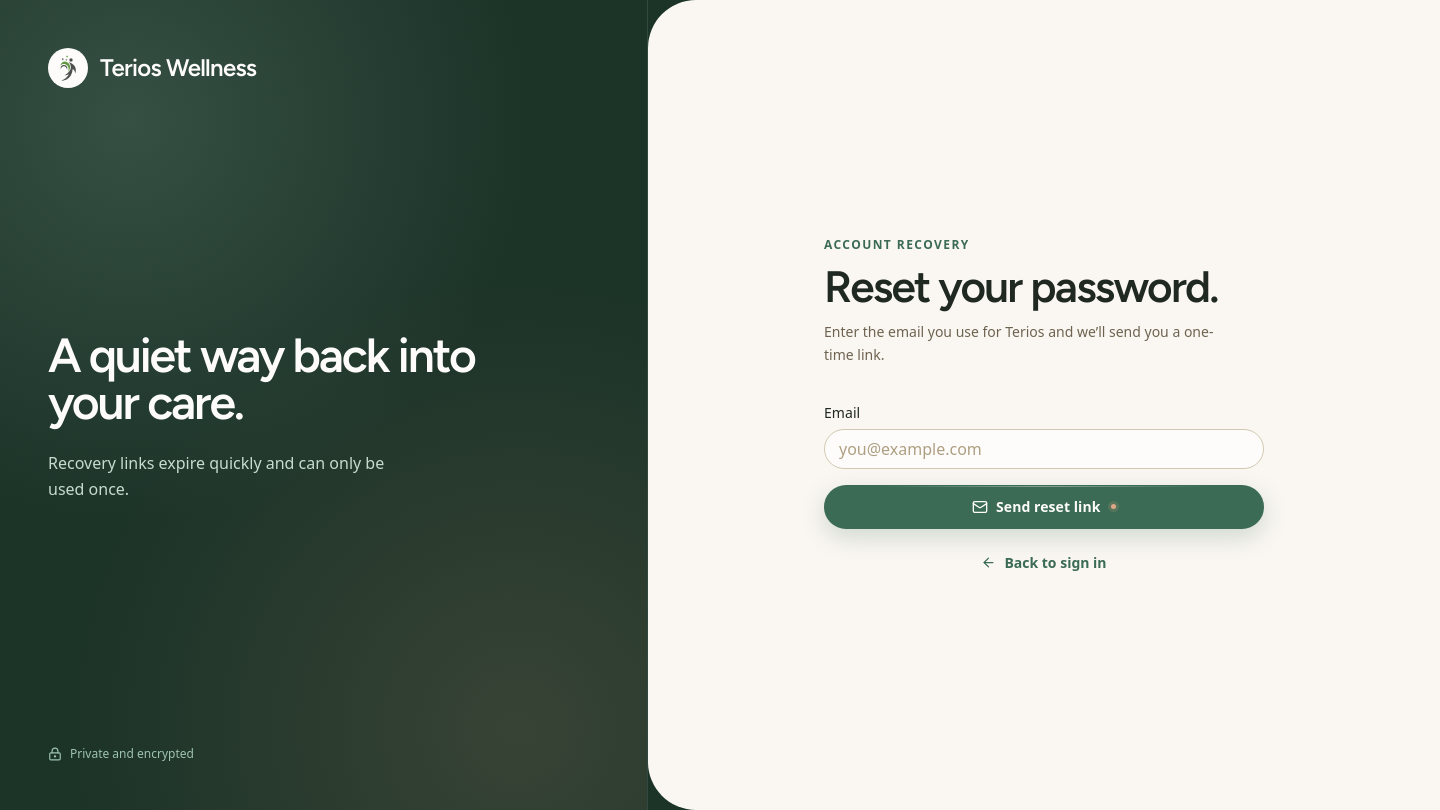
Test case: client password recovery request › sends the request and confirms without revealing whether the account exists
In the field labelled "Email": (1044, 449) [824,429,1264,469], type "ama@example.com"
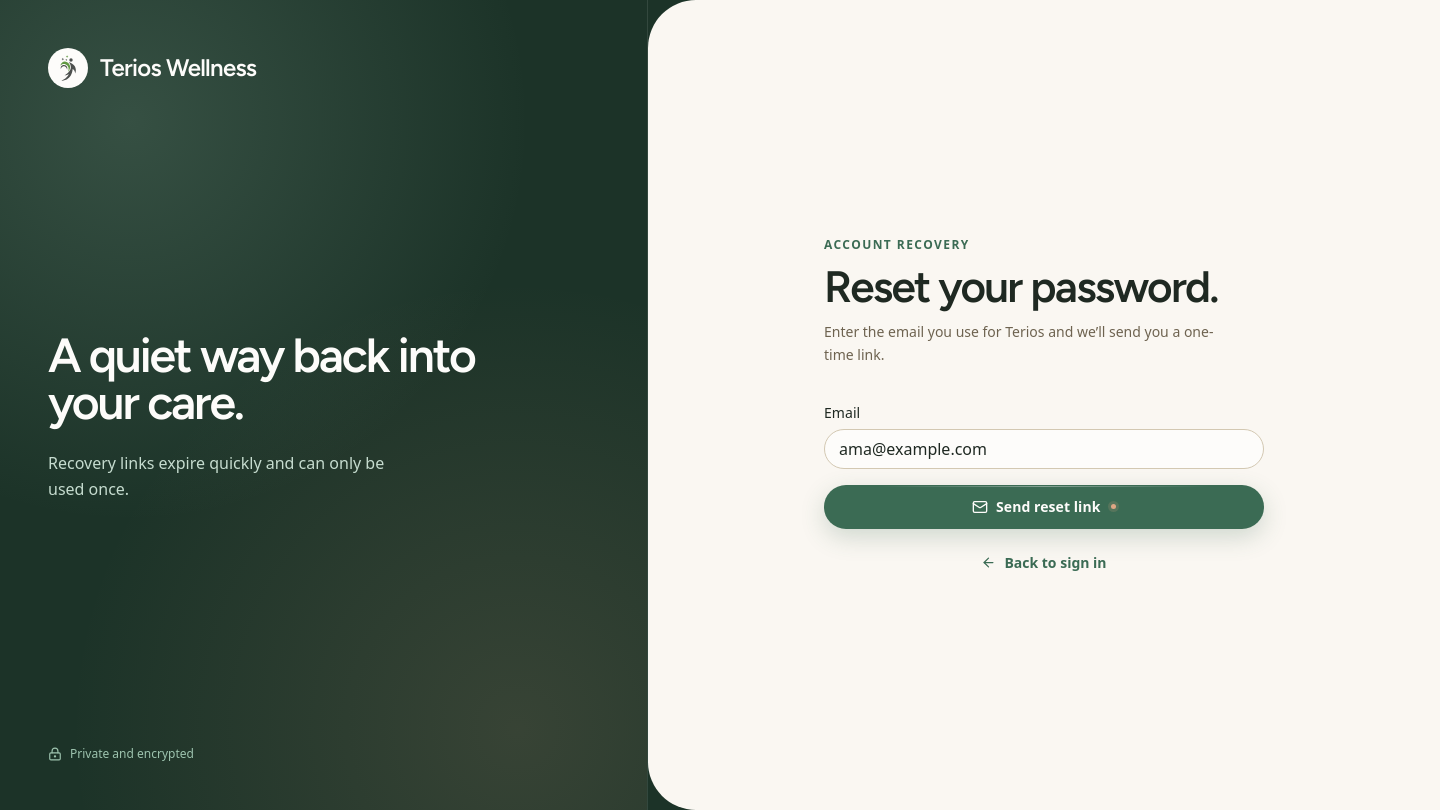
Click the button "Send reset link": click(1044, 507) [824,485,1264,529]
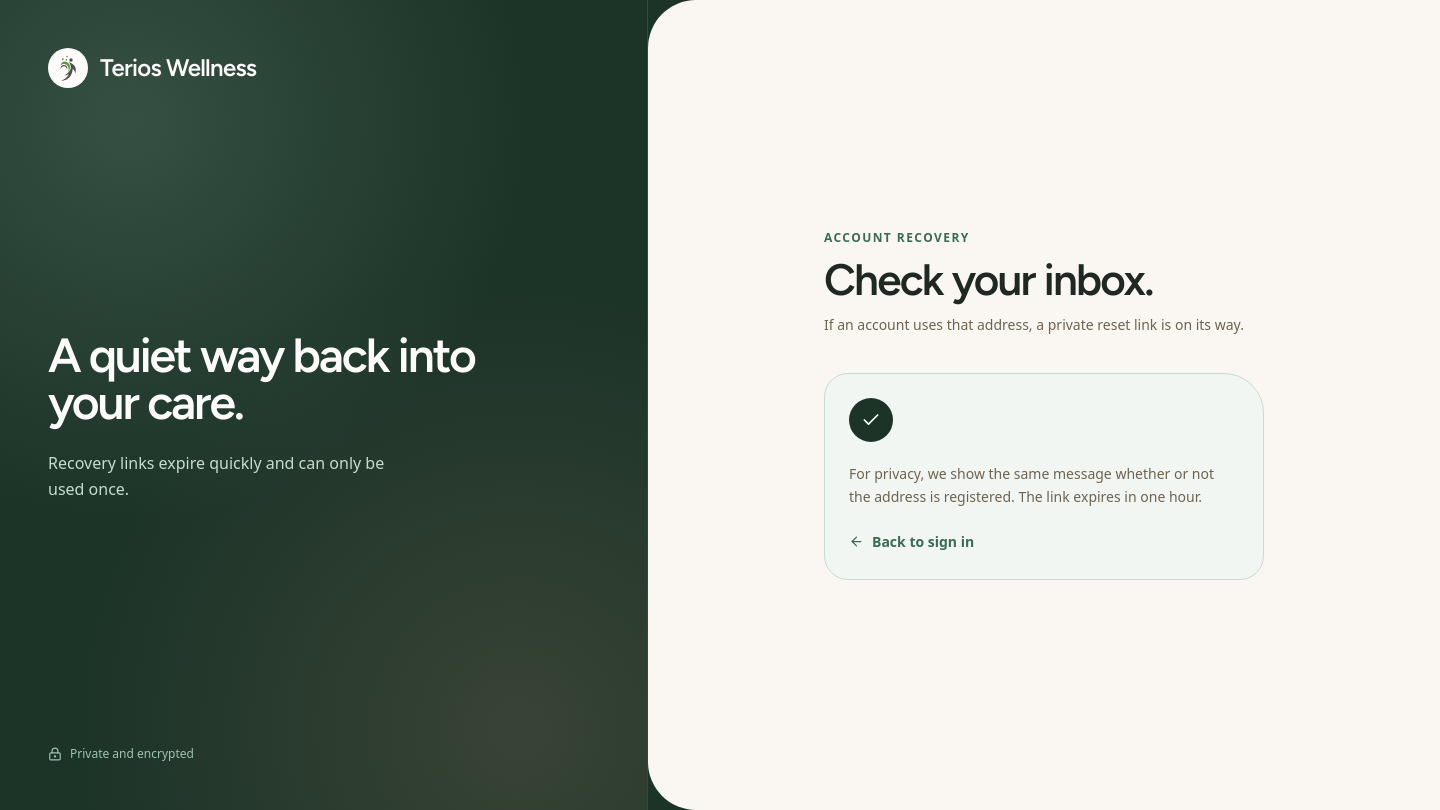
expect the heading "Check your inbox." is shown: met, box [824,253,1153,306]
expect the text "If an account uses that address" is shown: met, box [824,315,1244,334]
expect the text "whether or not the address is registered" is shown: met, box [849,464,1214,506]
